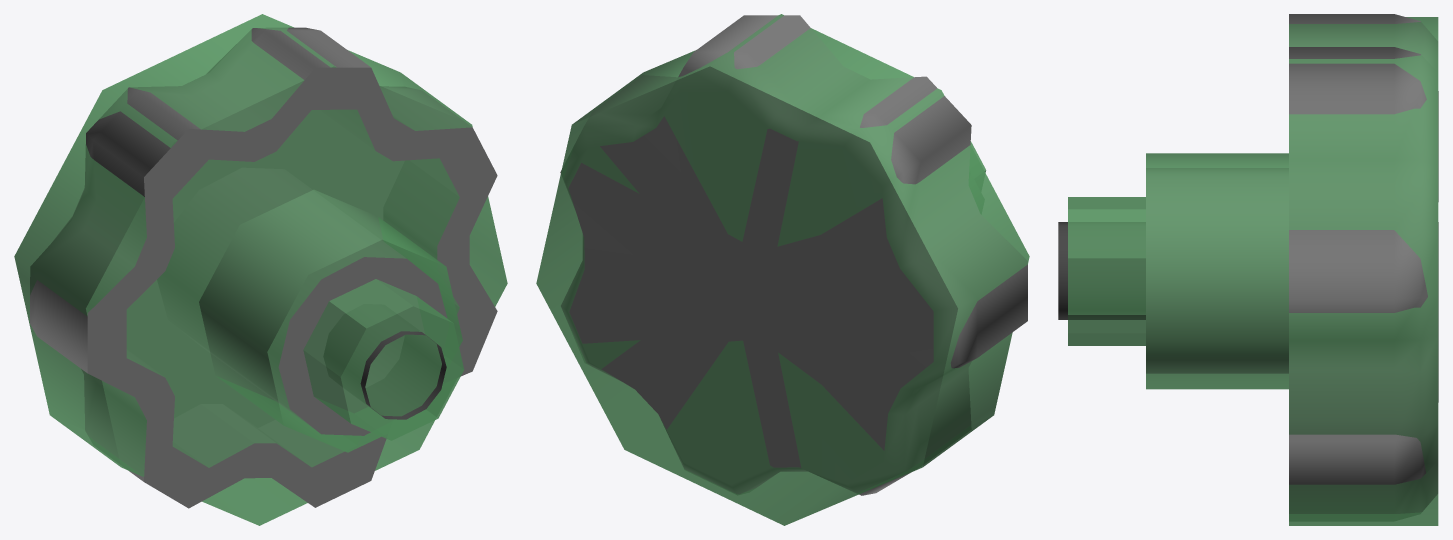
File: TripodLampScrew_01_Mesh.fbx
3 views of the same model, side by side, from view 1: azimuth 30°, elevation 25°; view 2: azimuth 150°, elevation 25°; view 3: azimuth 270°, elevation 25° (orthographic). The views are drawn at different scales.
Visible parts, largest first — view 1: TripodLamp_Screw_01_LOD0, TripodLamp_Screw_01_col; view 2: TripodLamp_Screw_01_LOD0, TripodLamp_Screw_01_col; view 3: TripodLamp_Screw_01_LOD0, TripodLamp_Screw_01_col.
Boxes of the visible parts, x1,y1,x2,y2 form: TripodLamp_Screw_01_LOD0: (30, 27, 497, 508); TripodLamp_Screw_01_col: (14, 14, 507, 525); TripodLamp_Screw_01_LOD0: (560, 15, 1027, 495); TripodLamp_Screw_01_col: (536, 14, 1029, 525); TripodLamp_Screw_01_LOD0: (1058, 14, 1438, 513); TripodLamp_Screw_01_col: (1068, 17, 1438, 525).
Size of what is drawn, in the model's own units: 0.0449 by 0.0453 by 0.0336.
